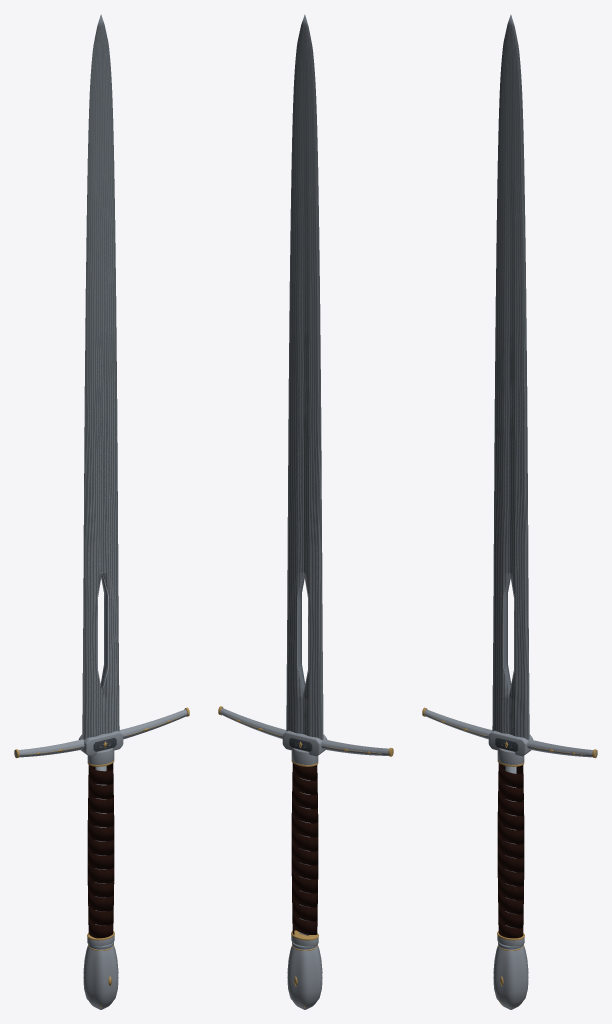
The model's file is branch-sword-openwork.glb.
3 views of the same model, side by side, from view 1: azimuth 30°, elevation 25°; view 2: azimuth 150°, elevation 25°; view 3: azimuth 330°, elevation 25° (orthographic).
Visible parts, largest first — view 1: Blade, Grip, Guard, Pommel; view 2: Blade, Grip, Guard, Pommel; view 3: Blade, Grip, Guard, Pommel.
Part boxes in pixels (x1,y1,x2,y2): Blade: (82, 14, 119, 925); Grip: (87, 763, 114, 946); Guard: (14, 707, 189, 766); Pommel: (83, 942, 118, 1009); Blade: (286, 14, 323, 935); Grip: (291, 763, 318, 946); Guard: (218, 706, 393, 766); Pommel: (287, 942, 322, 1009); Blade: (492, 14, 529, 928); Grip: (497, 763, 524, 946); Guard: (422, 707, 597, 766); Pommel: (493, 942, 528, 1009).
Bounding box in the file's own units: 0.23 × 1.27 × 0.0422.
Materials: 9 (3 with a texture image).
